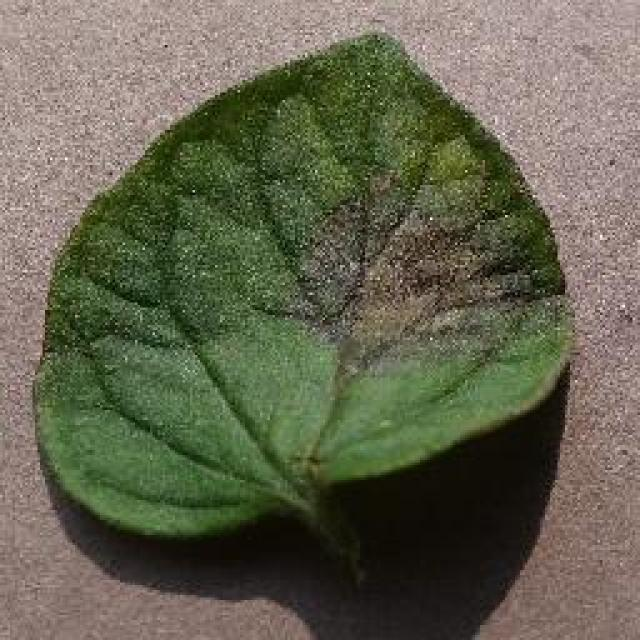Tomato late blight leaf: (32, 35, 576, 540)
